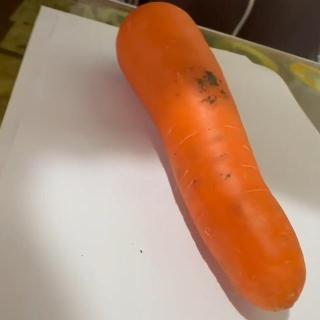carrot: (115, 0, 307, 312)
